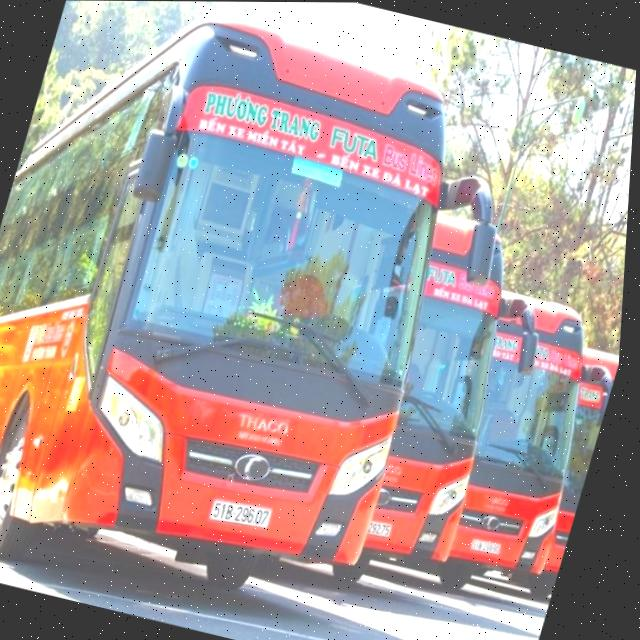car: (0, 0, 500, 640), (324, 180, 630, 640)
plate: (201, 488, 279, 538)
